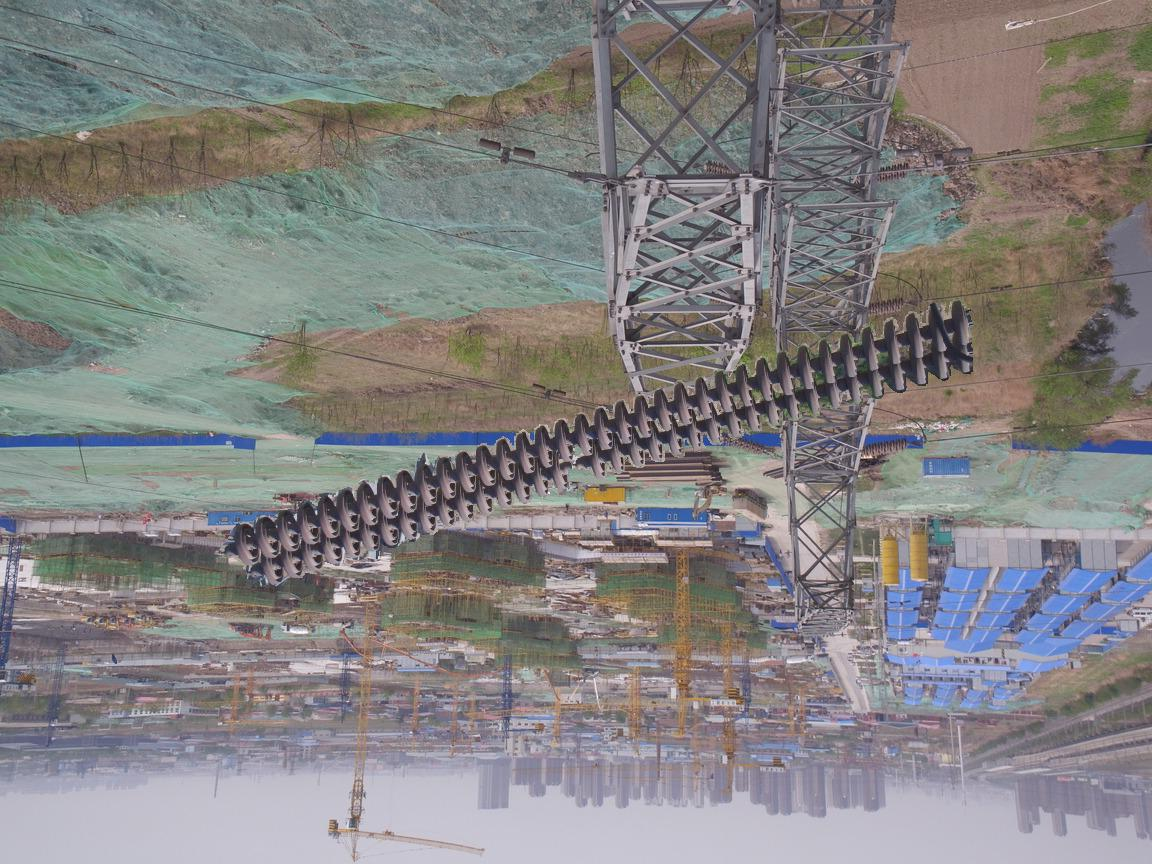insulator: (226, 297, 977, 592), (858, 435, 910, 457), (864, 294, 908, 320), (875, 160, 914, 186), (727, 435, 768, 456), (704, 158, 735, 180)
insulator_stringdrop: (549, 443, 609, 497)
